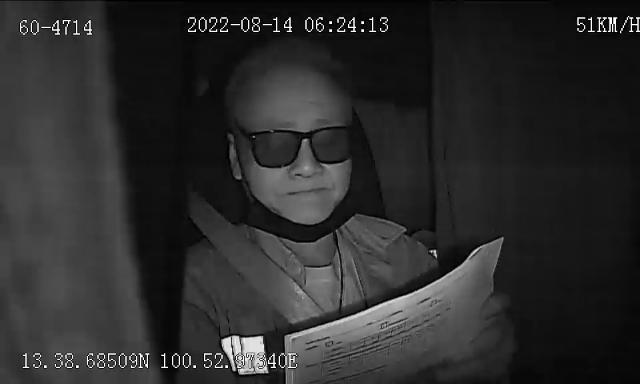Seatbelt: (179, 189, 325, 323)
